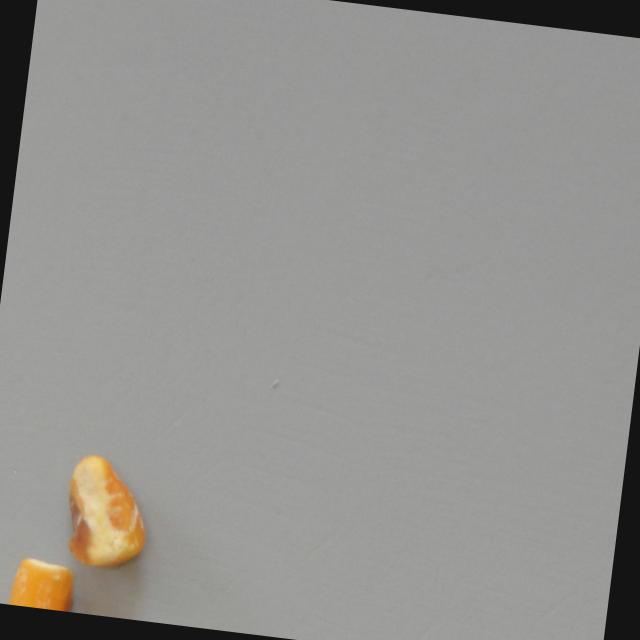dañado: (55, 451, 158, 574), (0, 550, 83, 613)
